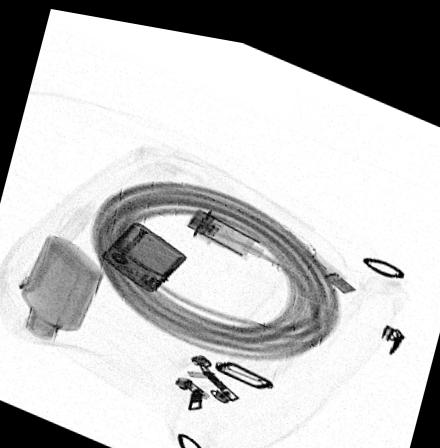Lighter: (99, 214, 187, 287)
